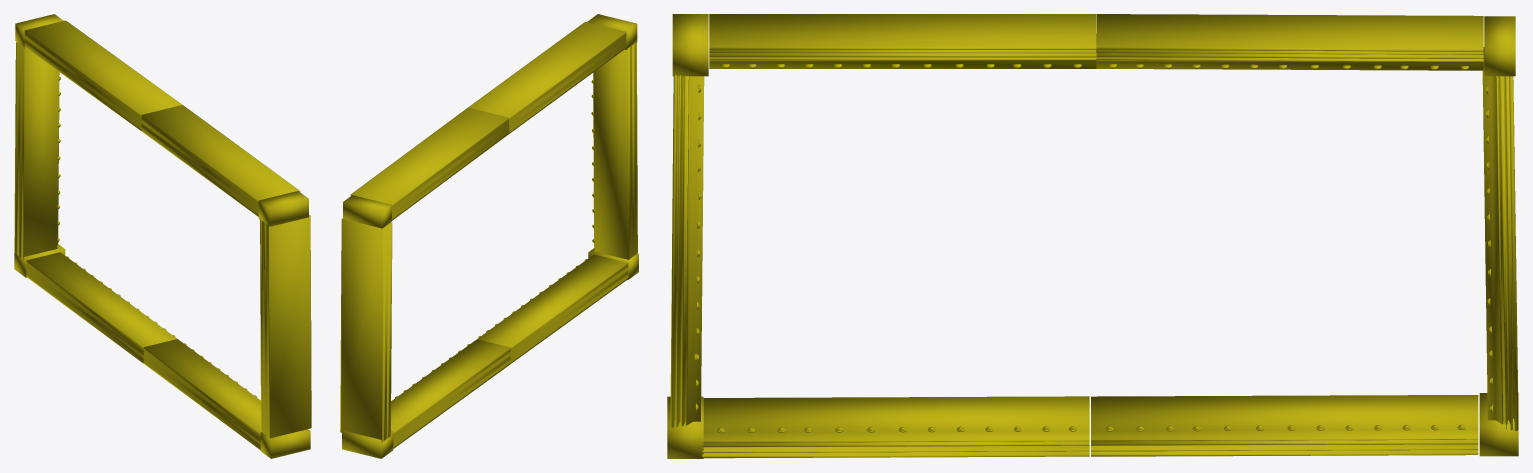
File: cornice di classe_FBX.fbx
3 views of the same model, side by side, from view 1: azimuth 30°, elevation 25°; view 2: azimuth 150°, elevation 25°; view 3: azimuth 270°, elevation 25° (orthographic). The views are drawn at different scales.
Visible parts, largest first — view 1: Cube_1, Cube_5, Cube, Cube_2, Cube_4, Cube_3, Cube_6, Cube_9, Cube_7, Cube_8; view 2: Cube_5, Cube_1, Cube_2, Cube, Cube_3, Cube_4, Cube_7, Cube_8, Cube_6, Cube_9; view 3: Cube_4, Cube_3, Cube_2, Cube, Cube_5, Cube_1, Cube_6, Cube_7, Cube_8, Cube_9.
Boxes of the visible parts, <box> form: Cube_1: <box>260,215,311,438</box>; Cube_5: <box>14,42,59,259</box>; Cube: <box>141,105,300,216</box>; Cube_2: <box>24,20,182,130</box>; Cube_4: <box>26,252,176,363</box>; Cube_3: <box>143,339,261,449</box>; Cube_6: <box>258,191,308,226</box>; Cube_9: <box>260,429,310,458</box>; Cube_7: <box>15,14,63,47</box>; Cube_8: <box>14,244,65,277</box>; Cube_5: <box>340,218,392,442</box>; Cube_1: <box>593,42,637,259</box>; Cube_2: <box>350,107,509,220</box>; Cube: <box>468,22,626,133</box>; Cube_3: <box>477,254,628,363</box>; Cube_4: <box>391,339,510,448</box>; Cube_7: <box>343,195,391,228</box>; Cube_8: <box>342,430,393,458</box>; Cube_6: <box>587,14,637,49</box>; Cube_9: <box>588,248,638,280</box>; Cube_4: <box>1091,395,1478,456</box>; Cube_3: <box>702,396,1089,458</box>; Cube_2: <box>1096,14,1483,70</box>; Cube: <box>709,14,1096,68</box>; Cube_5: <box>1482,47,1518,431</box>; Cube_1: <box>670,75,704,427</box>; Cube_6: <box>672,14,708,76</box>; Cube_7: <box>1484,16,1515,76</box>; Cube_8: <box>1479,393,1518,456</box>; Cube_9: <box>667,396,703,458</box>.
Bounding box in the file's own units: 1.07 × 6.05 × 11.3.
